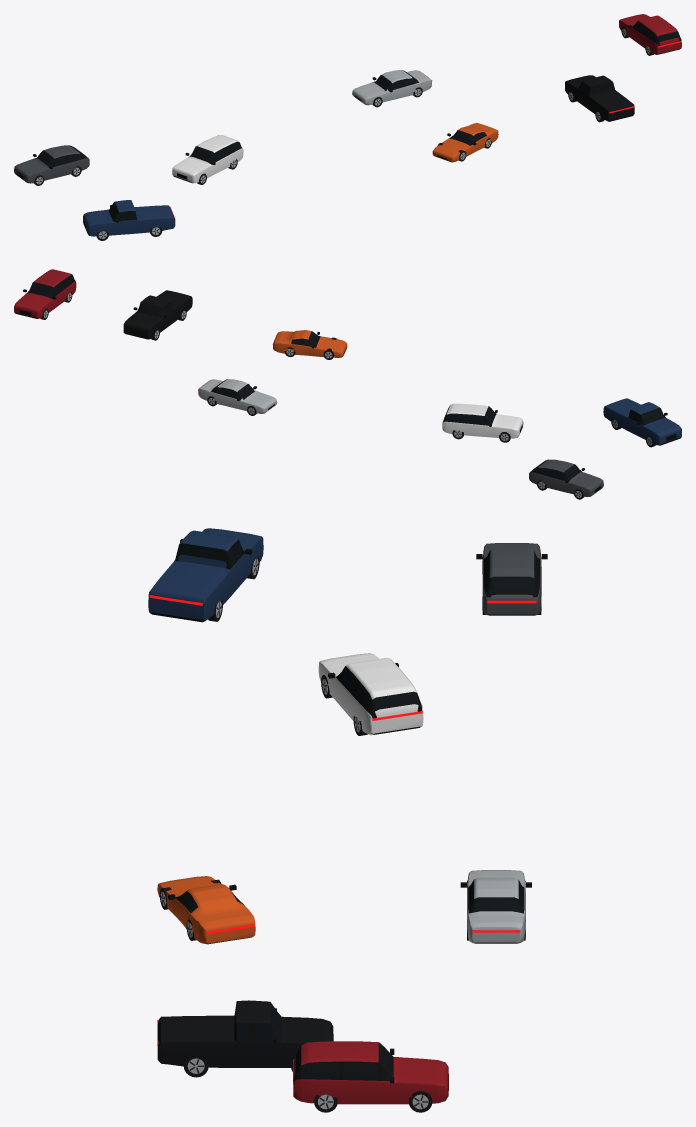
Rendered from ford_showroom_placeholder_cars.glb.
3 views of the same model, one above another, from view 1: azimuth 30°, elevation 25°; view 2: azimuth 150°, elevation 25°; view 3: azimuth 270°, elevation 25° (orthographic). The views are drawn at different scales.
Parts seen in each view (by area): view 1: P04_CAR_01_Pickup_CarPaintBlue, P04_CAR_02_Suv_CarPaintWhite, P04_CAR_06_Pickup_CarPaintBlack, P04_CAR_04_Crossover_CarPaintGraphite, P04_CAR_05_Sedan_CarPaintSilver, P04_CAR_07_Suv_CarPaintRed, P04_CAR_03_Coupe_CarPaintOrange; view 2: P04_CAR_01_Pickup_CarPaintBlue, P04_CAR_02_Suv_CarPaintWhite, P04_CAR_06_Pickup_CarPaintBlack, P04_CAR_07_Suv_CarPaintRed, P04_CAR_04_Crossover_CarPaintGraphite, P04_CAR_05_Sedan_CarPaintSilver, P04_CAR_03_Coupe_CarPaintOrange; view 3: P04_CAR_07_Suv_CarPaintRed, P04_CAR_06_Pickup_CarPaintBlack, P04_CAR_01_Pickup_CarPaintBlue, P04_CAR_02_Suv_CarPaintWhite, P04_CAR_03_Coupe_CarPaintOrange, P04_CAR_04_Crossover_CarPaintGraphite, P04_CAR_05_Sedan_CarPaintSilver.
Part boxes in pixels (x1,y1,x2,y2): P04_CAR_01_Pickup_CarPaintBlue: [83, 200, 175, 240]; P04_CAR_02_Suv_CarPaintWhite: [172, 135, 243, 184]; P04_CAR_06_Pickup_CarPaintBlack: [565, 75, 634, 122]; P04_CAR_04_Crossover_CarPaintGraphite: [14, 145, 89, 185]; P04_CAR_05_Sedan_CarPaintSilver: [352, 70, 432, 107]; P04_CAR_07_Suv_CarPaintRed: [619, 14, 681, 55]; P04_CAR_03_Coupe_CarPaintOrange: [432, 123, 498, 162]; P04_CAR_01_Pickup_CarPaintBlue: [603, 398, 681, 447]; P04_CAR_02_Suv_CarPaintWhite: [442, 403, 523, 442]; P04_CAR_06_Pickup_CarPaintBlack: [123, 290, 192, 340]; P04_CAR_07_Suv_CarPaintRed: [14, 269, 76, 319]; P04_CAR_04_Crossover_CarPaintGraphite: [529, 459, 603, 499]; P04_CAR_05_Sedan_CarPaintSilver: [198, 379, 277, 415]; P04_CAR_03_Coupe_CarPaintOrange: [272, 330, 347, 359]; P04_CAR_07_Suv_CarPaintRed: [293, 1041, 448, 1112]; P04_CAR_06_Pickup_CarPaintBlack: [157, 1000, 333, 1077]; P04_CAR_01_Pickup_CarPaintBlue: [148, 528, 263, 622]; P04_CAR_02_Suv_CarPaintWhite: [318, 653, 423, 735]; P04_CAR_03_Coupe_CarPaintOrange: [157, 876, 255, 944]; P04_CAR_04_Crossover_CarPaintGraphite: [476, 543, 547, 615]; P04_CAR_05_Sedan_CarPaintSilver: [460, 870, 531, 943].
Size of the model in its own units: 45.11 by 3.31 by 12.74.
